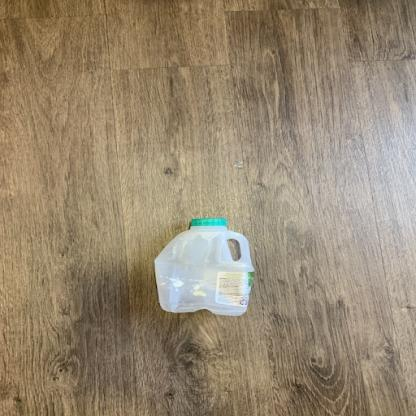trash: (156, 215, 258, 324)
